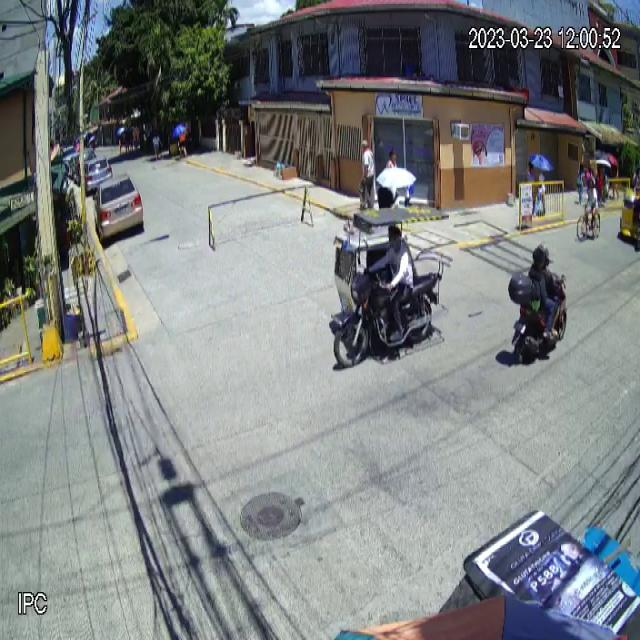Tricycle: (330, 206, 453, 369)
